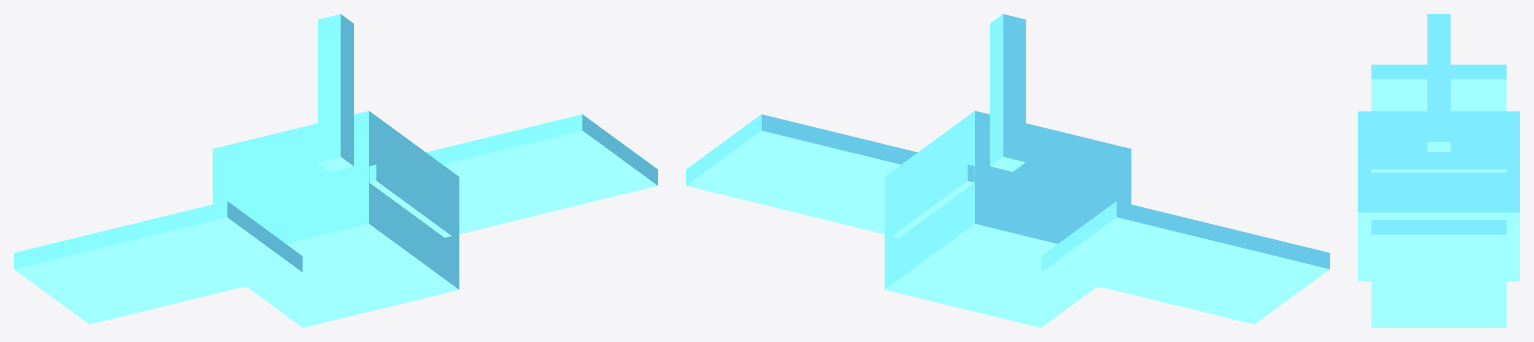
Rendered from satellite.gltf.
The picture shows the model from 3 angles, left to right: view 1: azimuth 30°, elevation 25°; view 2: azimuth 150°, elevation 25°; view 3: azimuth 270°, elevation 25°; orthographic projection. The views are drawn at different scales.
Parts seen in each view (by area): view 1: Satellite body, Left solar panel, Right solar panel, Antenna; view 2: Satellite body, Left solar panel, Right solar panel, Antenna; view 3: Satellite body, Right solar panel, Left solar panel, Antenna.
Boxes of the visible parts, x1,y1,x2,y2 form: Satellite body: [212, 111, 459, 327]; Left solar panel: [14, 201, 302, 324]; Right solar panel: [369, 114, 657, 237]; Antenna: [318, 14, 353, 171]; Satellite body: [884, 111, 1131, 327]; Left solar panel: [1041, 201, 1329, 324]; Right solar panel: [686, 114, 974, 237]; Antenna: [990, 14, 1025, 171]; Satellite body: [1358, 111, 1519, 281]; Right solar panel: [1371, 220, 1506, 327]; Left solar panel: [1371, 64, 1506, 172]; Antenna: [1427, 14, 1450, 151].
Size of the model in its own units: 4 by 1.71 by 1.1.
